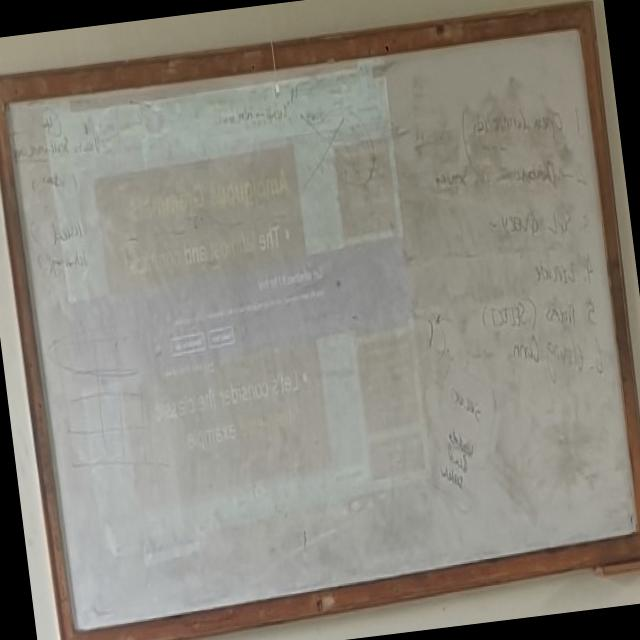Slide: (41, 50, 440, 596)
White-board: (0, 18, 640, 640)
